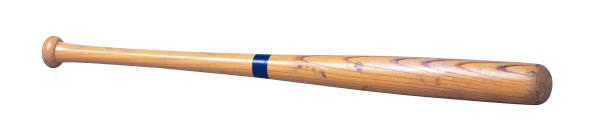bita: (42, 38, 553, 105)
